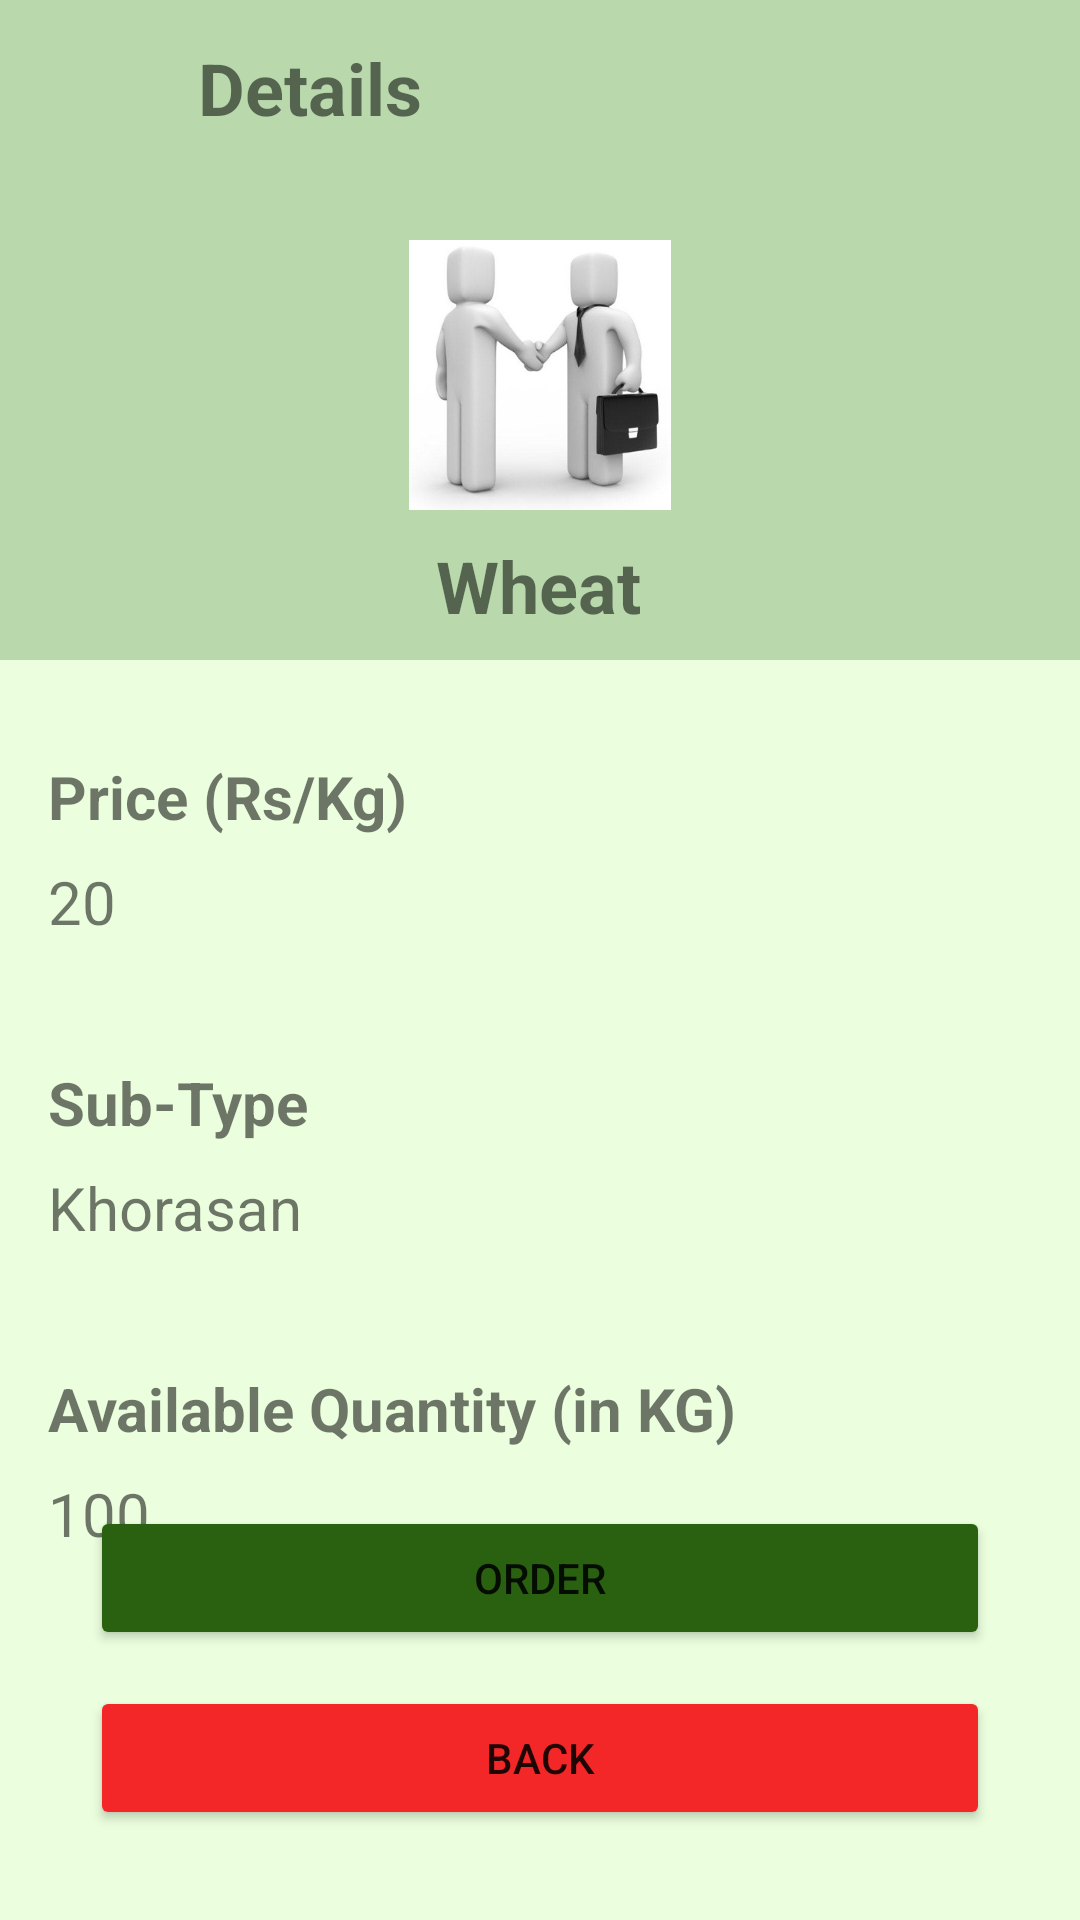

Screen size 1080px x 1920px. Icon name, then its box in pixels as (x1, y1, x2, y2):
vendor: (409, 240, 671, 510)
